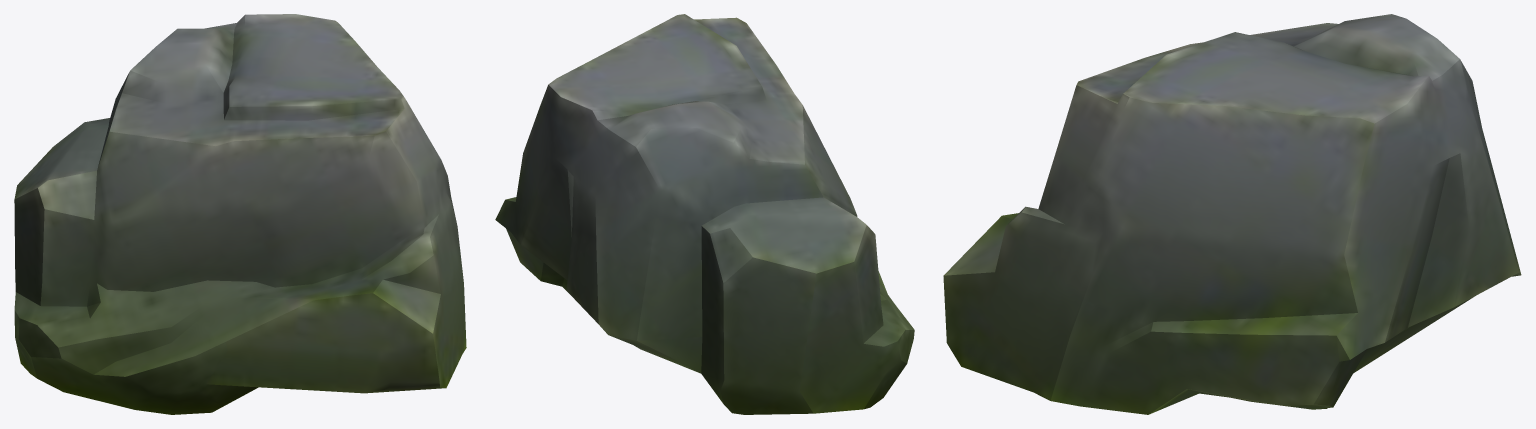
Rendered from rock-3.glb.
3 renders of one model, left to right at view 1: azimuth 30°, elevation 25°; view 2: azimuth 150°, elevation 25°; view 3: azimuth 270°, elevation 25°, orthographic. The views are drawn at different scales.
Parts seen in each view (by area): view 1: rock-3; view 2: rock-3; view 3: rock-3.
Part boxes in pixels (bbox=[...]): rock-3: bbox=[14, 14, 466, 414]; rock-3: bbox=[495, 14, 914, 414]; rock-3: bbox=[943, 14, 1521, 414].
Size of the model in its own units: 3.42 by 2.32 by 3.48.
1 material, 1 textured.
